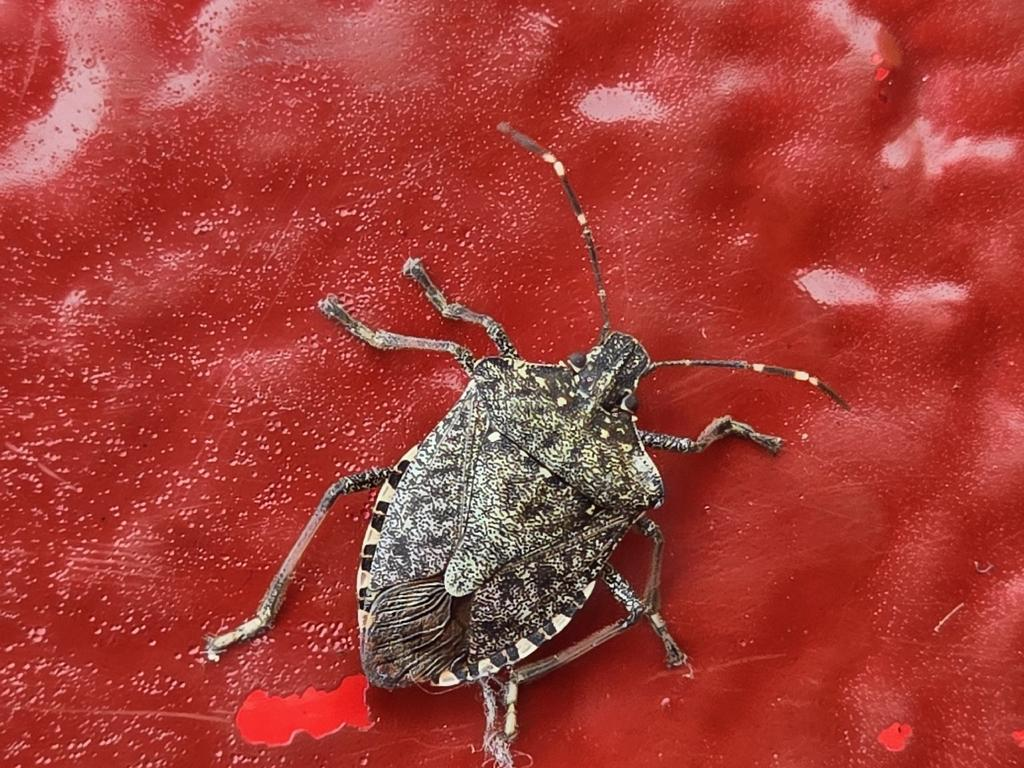stink_bugs: (168, 72, 868, 768)
